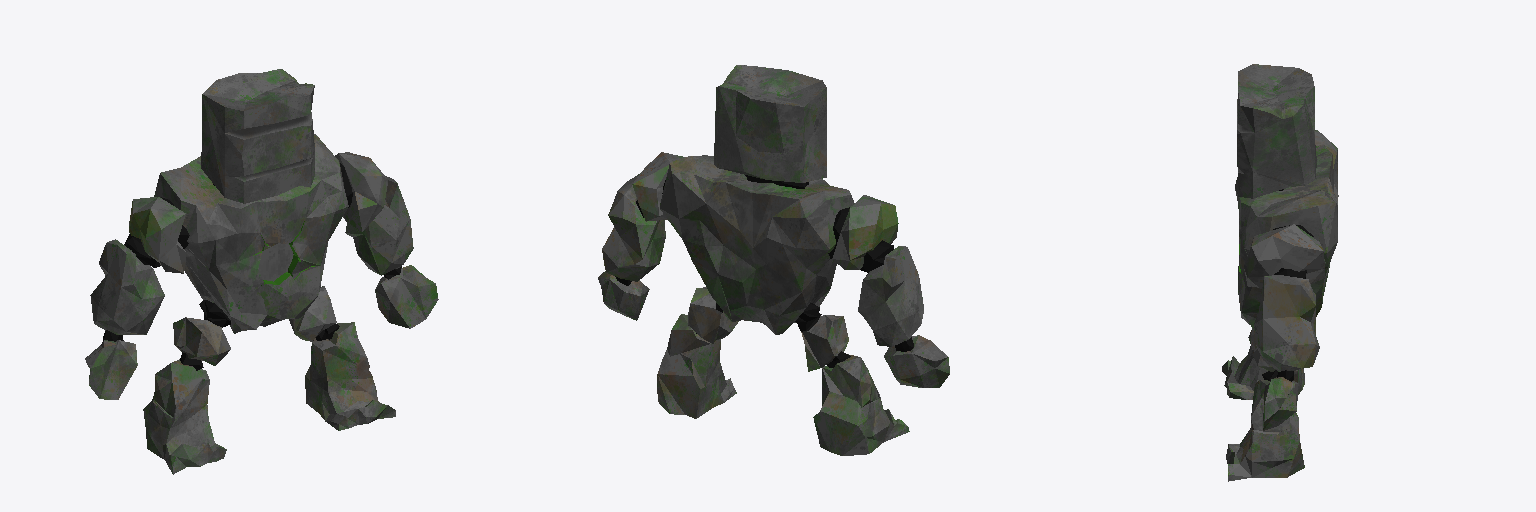
The picture shows the model from 3 angles: view 1: azimuth 30°, elevation 25°; view 2: azimuth 150°, elevation 25°; view 3: azimuth 270°, elevation 25°; orthographic projection.
Parts seen in each view (by area): view 1: CUERPO.001, ARTICULACIONES.001, DETALLES.001; view 2: CUERPO.001, ARTICULACIONES.001; view 3: CUERPO.001.
Boxes of the visible parts, x1,y1,x2,y2 form: CUERPO.001: [85, 69, 438, 474]; ARTICULACIONES.001: [103, 163, 401, 370]; DETALLES.001: [258, 243, 293, 281]; CUERPO.001: [598, 65, 949, 455]; ARTICULACIONES.001: [615, 175, 913, 367]; CUERPO.001: [1222, 64, 1338, 481].
Bounding box in the file's own units: 10.48 × 9.74 × 3.04.
4 materials, 1 textured.